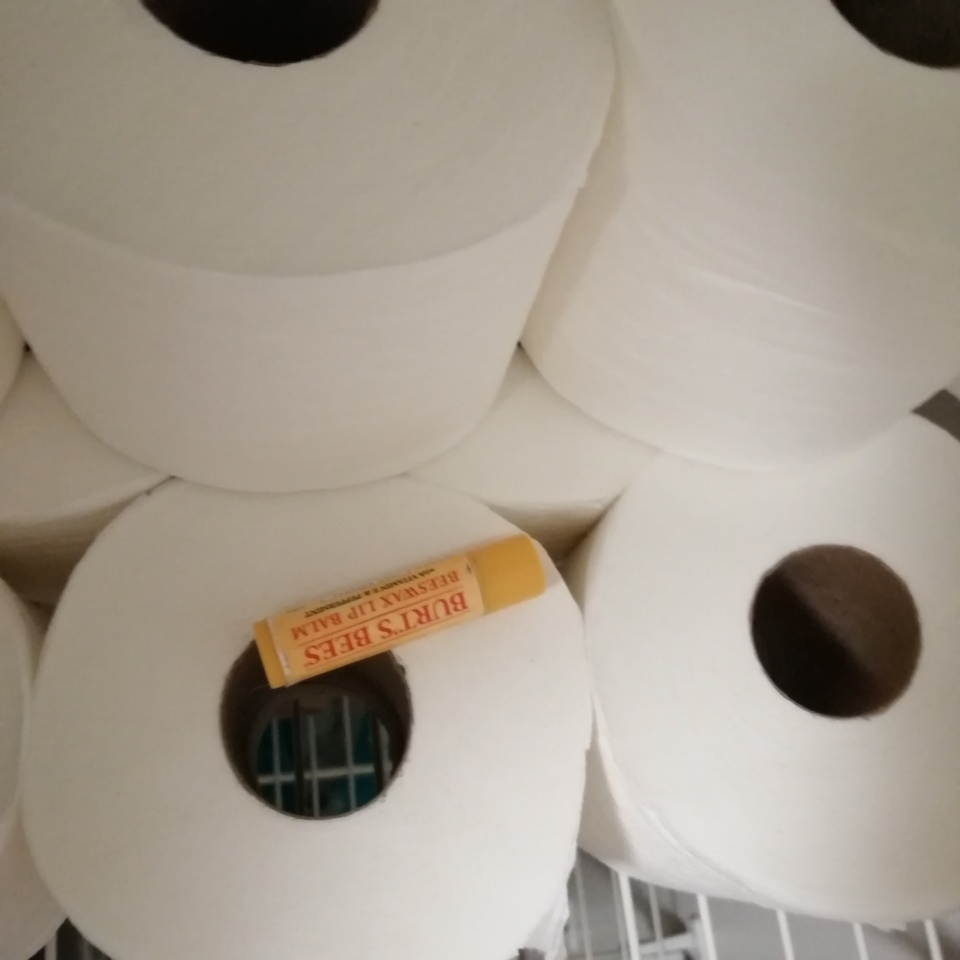chapstick: (252, 534, 546, 689)
